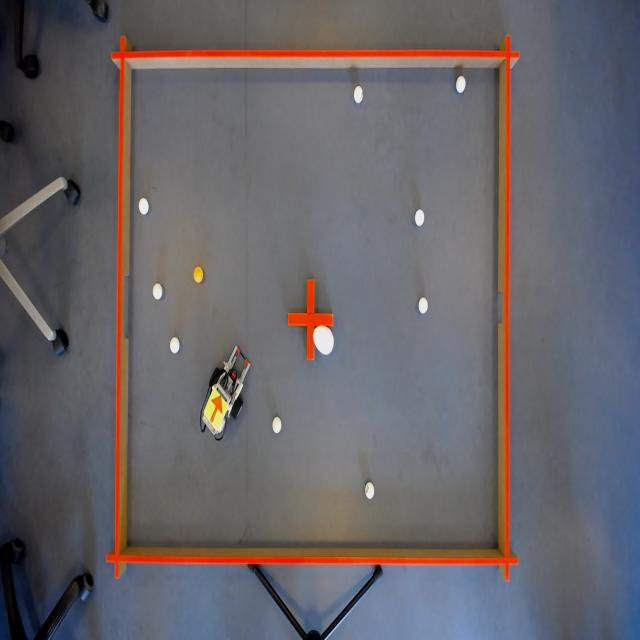cross: (287, 276, 335, 362)
egg: (311, 323, 336, 358)
orange_ball: (192, 265, 204, 285)
robot: (202, 385, 229, 433)
white_ball: (352, 82, 366, 107), (363, 478, 377, 502), (168, 333, 182, 357), (417, 294, 429, 320), (271, 412, 283, 438), (138, 194, 150, 219), (454, 72, 466, 96), (414, 207, 426, 230), (151, 281, 164, 302)
